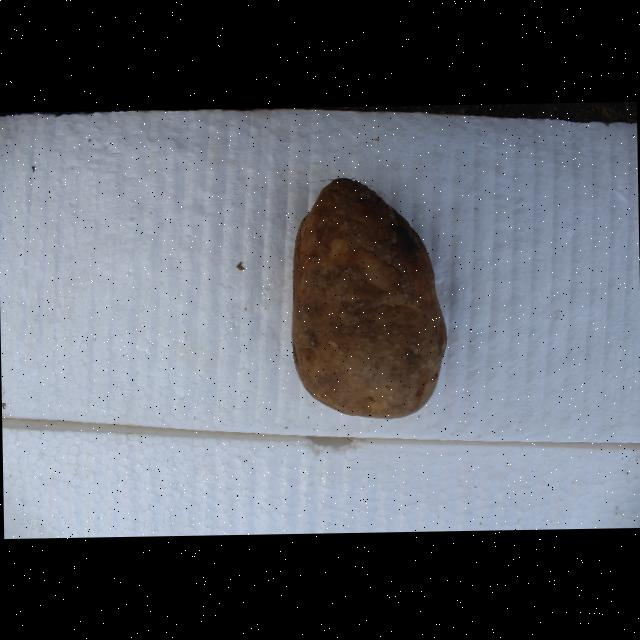Diseased-fungal potato: (285, 174, 448, 426)
